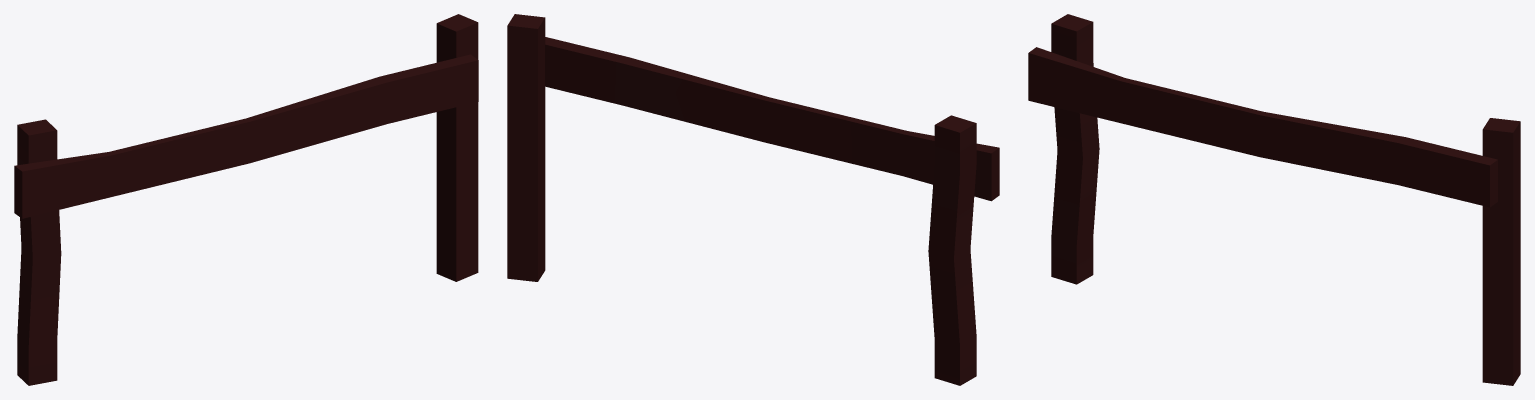
Rendered from TowerFence_01.fbx.
3 renders of one model, left to right at view 1: azimuth 30°, elevation 25°; view 2: azimuth 150°, elevation 25°; view 3: azimuth 330°, elevation 25°, orthographic.
Visible parts, largest first — view 1: TowerFence_01; view 2: TowerFence_01; view 3: TowerFence_01.
Part boxes in pixels (x1,y1,x2,y2): TowerFence_01: (14, 14, 478, 385); TowerFence_01: (507, 14, 999, 385); TowerFence_01: (1028, 14, 1520, 385).
Bounding box in the file's own units: 342 × 175 × 31.8.
